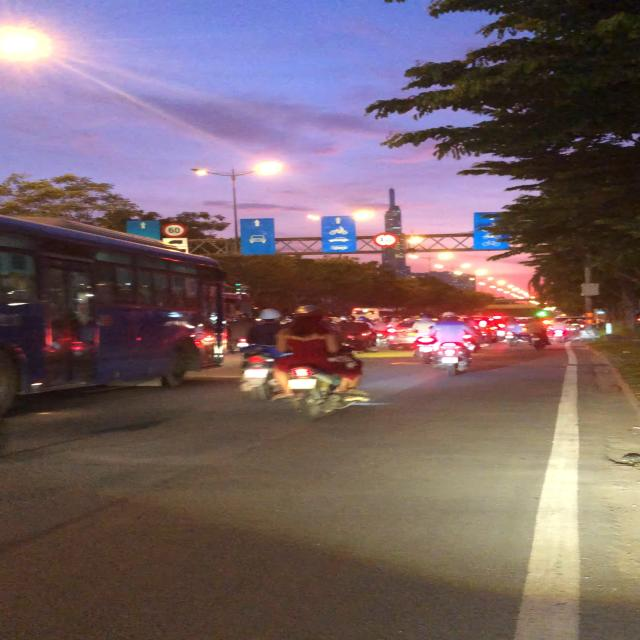Bien bao han che chieu cao: (371, 232, 404, 249)
Bien bao toc do toi da cho phep: (158, 221, 188, 237)
